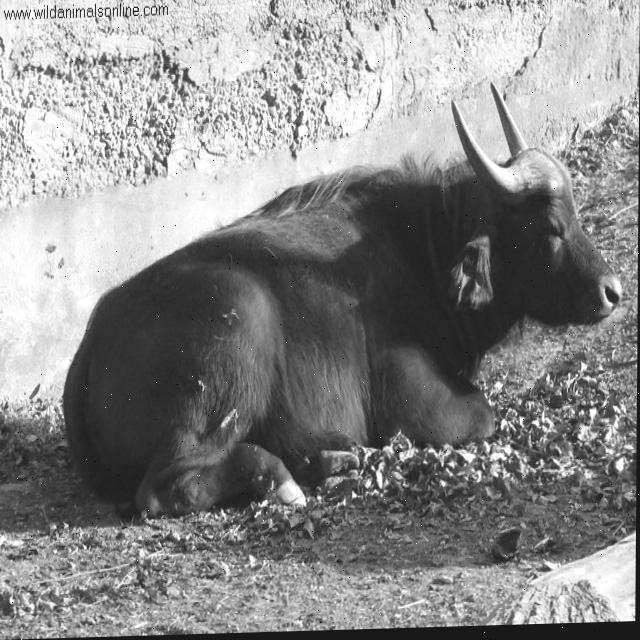Buffalo: (60, 75, 624, 521)
